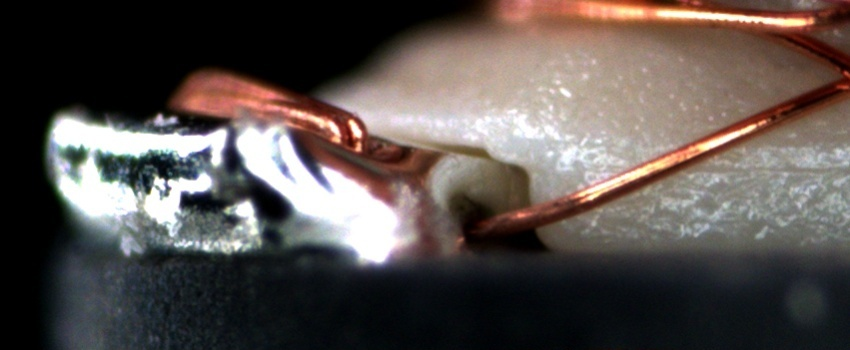CL: (814, 49, 848, 101)
DL: (587, 139, 849, 191)
TE: (174, 61, 369, 154)
